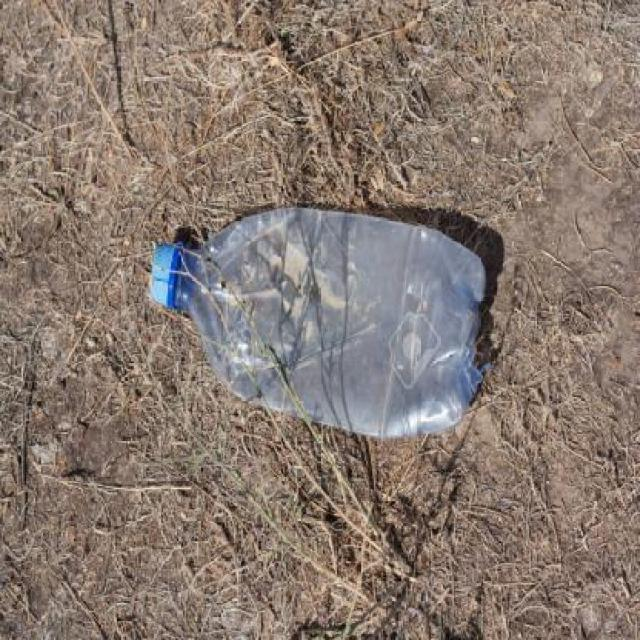bottle: (126, 201, 499, 465)
